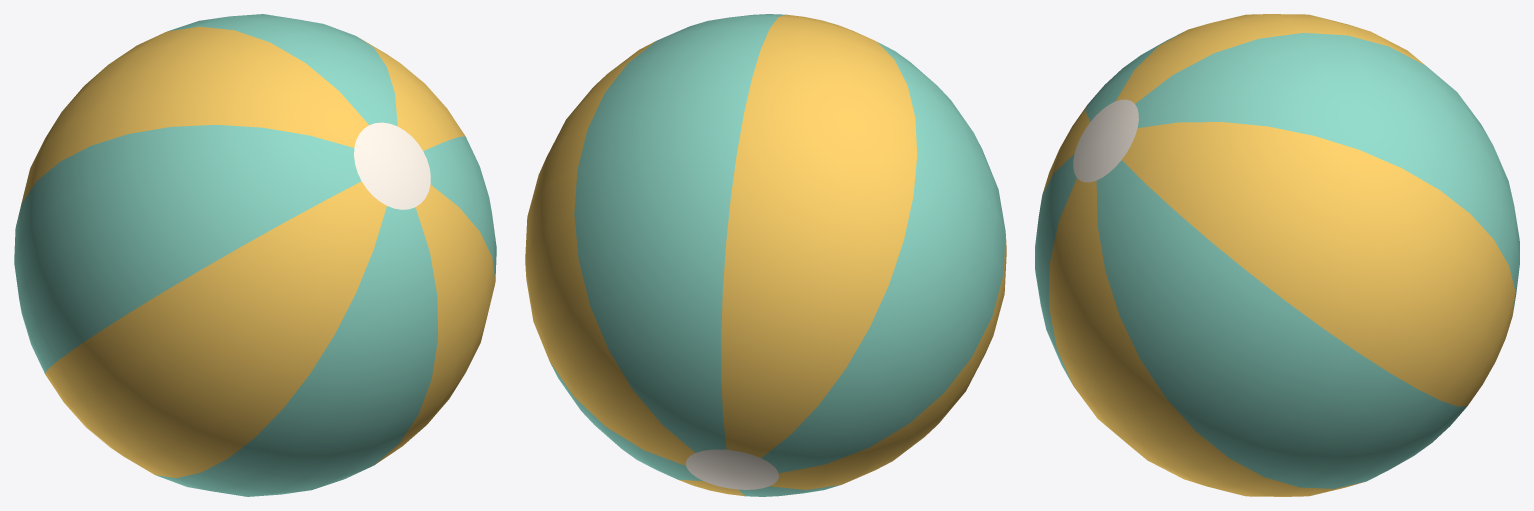
File: ball.glb
3 renders of one model, left to right at view 1: azimuth 30°, elevation 25°; view 2: azimuth 150°, elevation 25°; view 3: azimuth 270°, elevation 25°, orthographic.
Parts seen in each view (by area): view 1: ball; view 2: ball; view 3: ball.
Part boxes in pixels (x1=…): ball: x1=14, y1=14, x2=496, y2=496; ball: x1=525, y1=14, x2=1006, y2=496; ball: x1=1035, y1=14, x2=1519, y2=496.
Size of the model in its own units: 0.1597 by 0.1595 by 0.1596.
